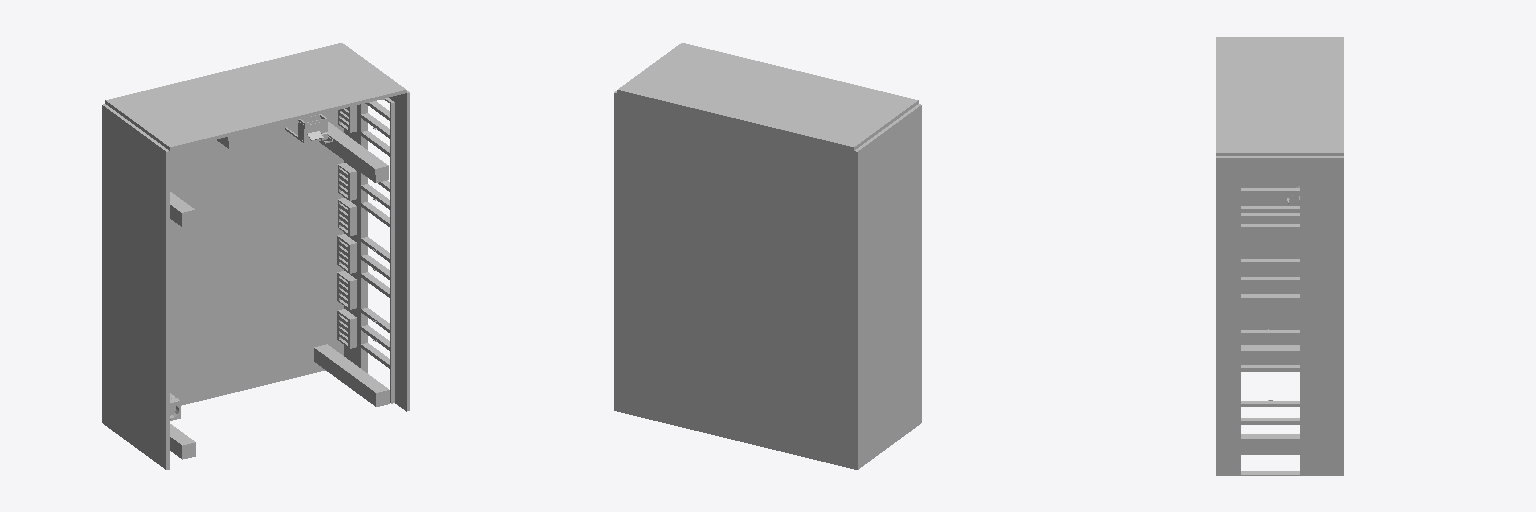
Rendered from 0_Klassenzimmer_leer.obj.
3 views of the same model, side by side, from view 1: azimuth 30°, elevation 25°; view 2: azimuth 150°, elevation 25°; view 3: azimuth 270°, elevation 25° (orthographic).
Parts seen in each view (by area): view 1: Klassenzimmer_01; view 2: Klassenzimmer_01; view 3: Klassenzimmer_01.
Boxes of the visible parts, box(x1,y1,x2,y2) form: Klassenzimmer_01: box(102, 43, 409, 469); Klassenzimmer_01: box(614, 43, 921, 469); Klassenzimmer_01: box(1216, 37, 1343, 475).
Size of the model in its own units: 360 by 455 by 165.